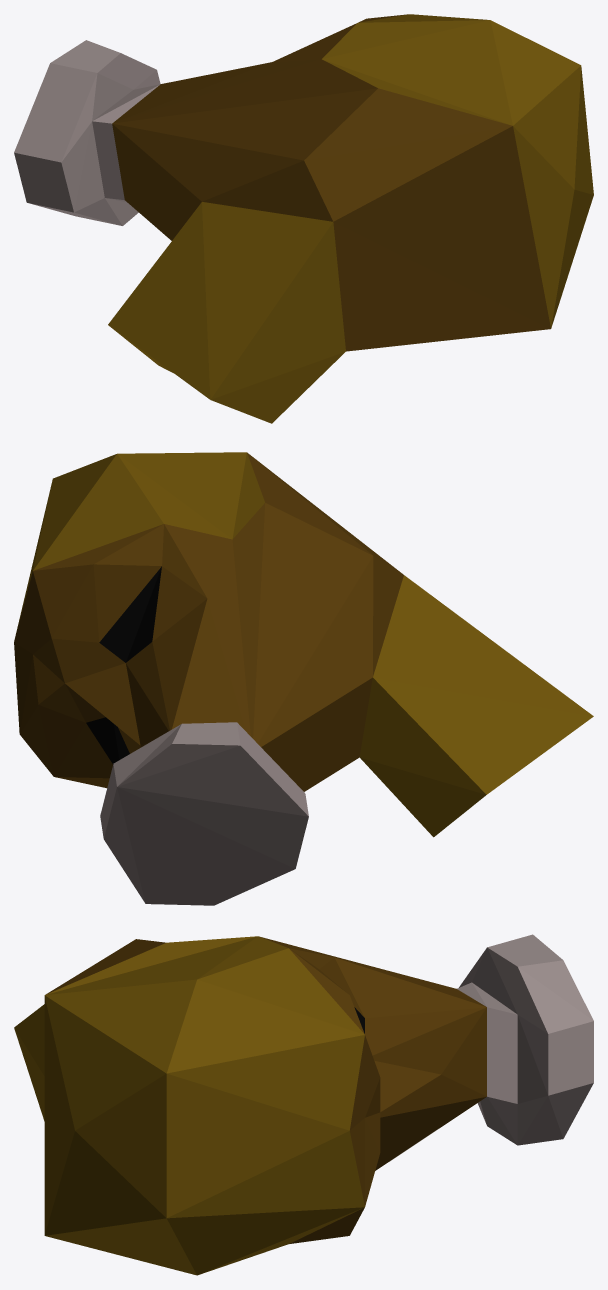
The model's file is inv_gas_mask.obj.
The picture shows the model from 3 angles, top to bottom: view 1: azimuth 30°, elevation 25°; view 2: azimuth 150°, elevation 25°; view 3: azimuth 270°, elevation 25°; orthographic projection. The views are drawn at different scales.
Bounding box in the file's own units: 0.2812 × 0.1719 × 0.2969.
